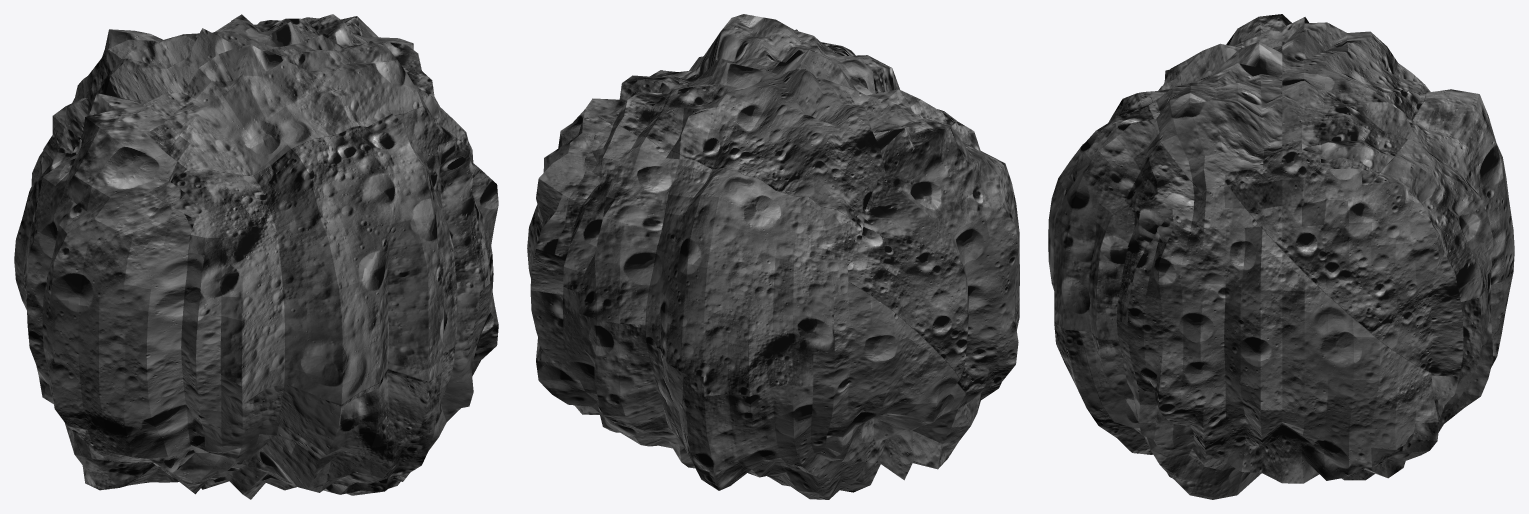
The model's file is asteroid93.obj.
The picture shows the model from 3 angles, left to right: view 1: azimuth 30°, elevation 25°; view 2: azimuth 150°, elevation 25°; view 3: azimuth 270°, elevation 25°; orthographic projection. The views are drawn at different scales.
Visible parts, largest first — view 1: Cube_Cube.002; view 2: Cube_Cube.002; view 3: Cube_Cube.002.
Boxes of the visible parts, bbox=[...] form: Cube_Cube.002: bbox=[14, 14, 498, 499]; Cube_Cube.002: bbox=[527, 14, 1019, 499]; Cube_Cube.002: bbox=[1048, 14, 1514, 499].
Size of the model in its own units: 1.87 by 1.81 by 1.81.
